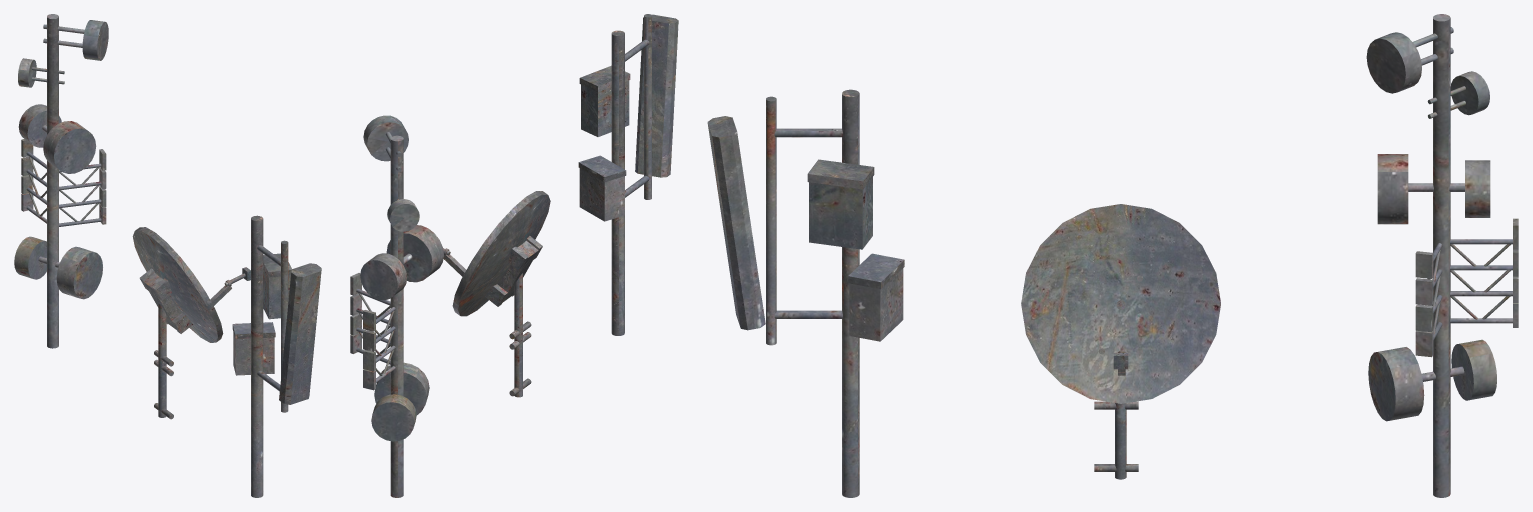
File: rusted_antennas.glb
3 renders of one model, left to right at view 1: azimuth 30°, elevation 25°; view 2: azimuth 150°, elevation 25°; view 3: azimuth 270°, elevation 25°, orthographic. The views are drawn at different scales.
Parts seen in each view (by area): view 1: pCylinder88, pCylinder86, pCylinder87; view 2: pCylinder88, pCylinder86, pCylinder87; view 3: pCylinder87, pCylinder88, pCylinder86.
Boxes of the visible parts, x1,y1,x2,y2 form: pCylinder88: (14,14,108,348); pCylinder86: (232,215,321,497); pCylinder87: (132,227,250,419); pCylinder88: (350,115,443,497); pCylinder86: (578,14,678,335); pCylinder87: (443,191,550,397); pCylinder87: (1021,204,1220,479); pCylinder88: (1366,14,1518,497); pCylinder86: (707,89,904,497).
Bounding box in the file's own units: 0.0303 × 0.0843 × 0.13.
1 material, 1 textured.
